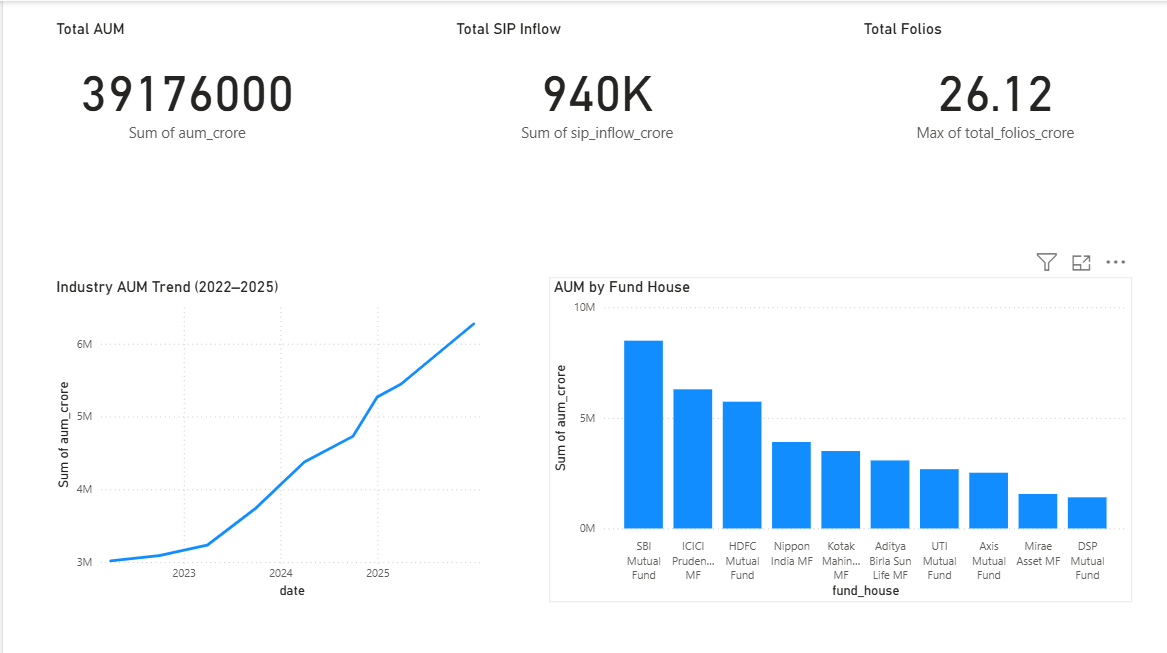

Layout of this report page (visuals, bound fields, positions):
{"tool":"powerbi","page":{"name":"Industry Overview","canvas":[1280,720],"ordinal":0},"visuals":[{"type":"card","title":"Total AUM","fields":{"Values":["Sum(03_aum_by_fund_house.aum_crore)"]},"box":[53.5,20.6,297.8,150.9],"z":0},{"type":"card","title":"Total SIP Inflow","fields":{"Values":["Sum(04_monthly_sip_inflows.sip_inflow_crore)"]},"box":[492.6,20.6,319.7,150.9],"z":1000},{"type":"card","title":"Total Folios","fields":{"Values":["Max(06_industry_folio_count.total_folios_crore)"]},"box":[940,20.6,299.1,150.9],"z":2000},{"type":"lineChart","title":"Industry AUM Trend (2022–2025)","fields":{"Y":["Sum(03_aum_by_fund_house.aum_crore)"],"Category":["03_aum_by_fund_house.date"]},"box":[53.5,303.3,481.6,356.8],"z":3000},{"type":"clusteredColumnChart","title":"AUM by Fund House","fields":{"Category":["03_aum_by_fund_house.fund_house"],"Y":["Sum(03_aum_by_fund_house.aum_crore)"]},"box":[599.7,303.3,639.5,356.8],"z":4000}]}

Visuals, with their boxes in screenshot pixels (x1, y1, x2, y2), scaled from the page's 1280x720 canvas onto the 1167x653 screenshot:
"Total AUM" card: select_region(49, 19, 320, 156)
"Total SIP Inflow" card: select_region(449, 19, 741, 156)
"Total Folios" card: select_region(857, 19, 1130, 156)
"Industry AUM Trend (2022–2025)" lineChart: select_region(49, 275, 488, 599)
"AUM by Fund House" clusteredColumnChart: select_region(547, 275, 1130, 599)
